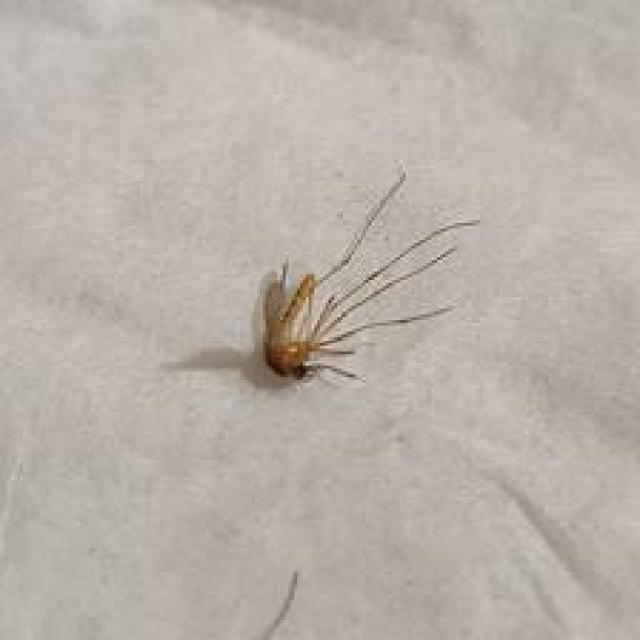Culex: (257, 162, 480, 387)
